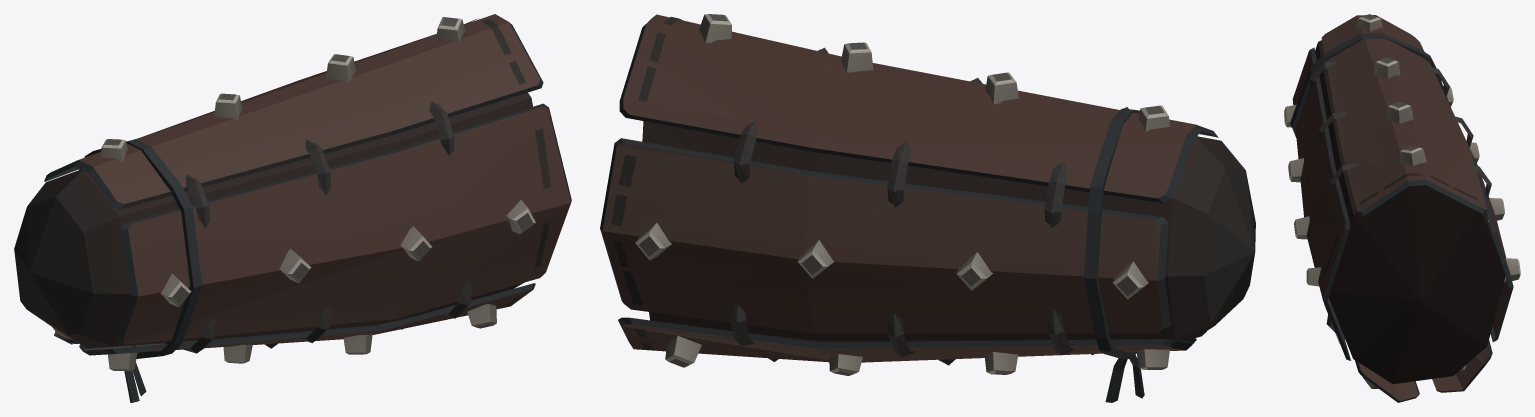
Rendered from vikingArmorLowerArmBrace.glb.
The picture shows the model from 3 angles, left to right: view 1: azimuth 30°, elevation 25°; view 2: azimuth 150°, elevation 25°; view 3: azimuth 270°, elevation 25°; orthographic projection. The views are drawn at different scales.
Visible parts, largest first — view 1: vikingArmorLowerArmBrace; view 2: vikingArmorLowerArmBrace; view 3: vikingArmorLowerArmBrace.
Part boxes in pixels (<box>): vikingArmorLowerArmBrace: <box>14,14,571,402</box>; vikingArmorLowerArmBrace: <box>600,14,1255,402</box>; vikingArmorLowerArmBrace: <box>1284,14,1520,402</box>.
Size of the model in its own units: 0.3061 by 0.1667 by 0.1507.
